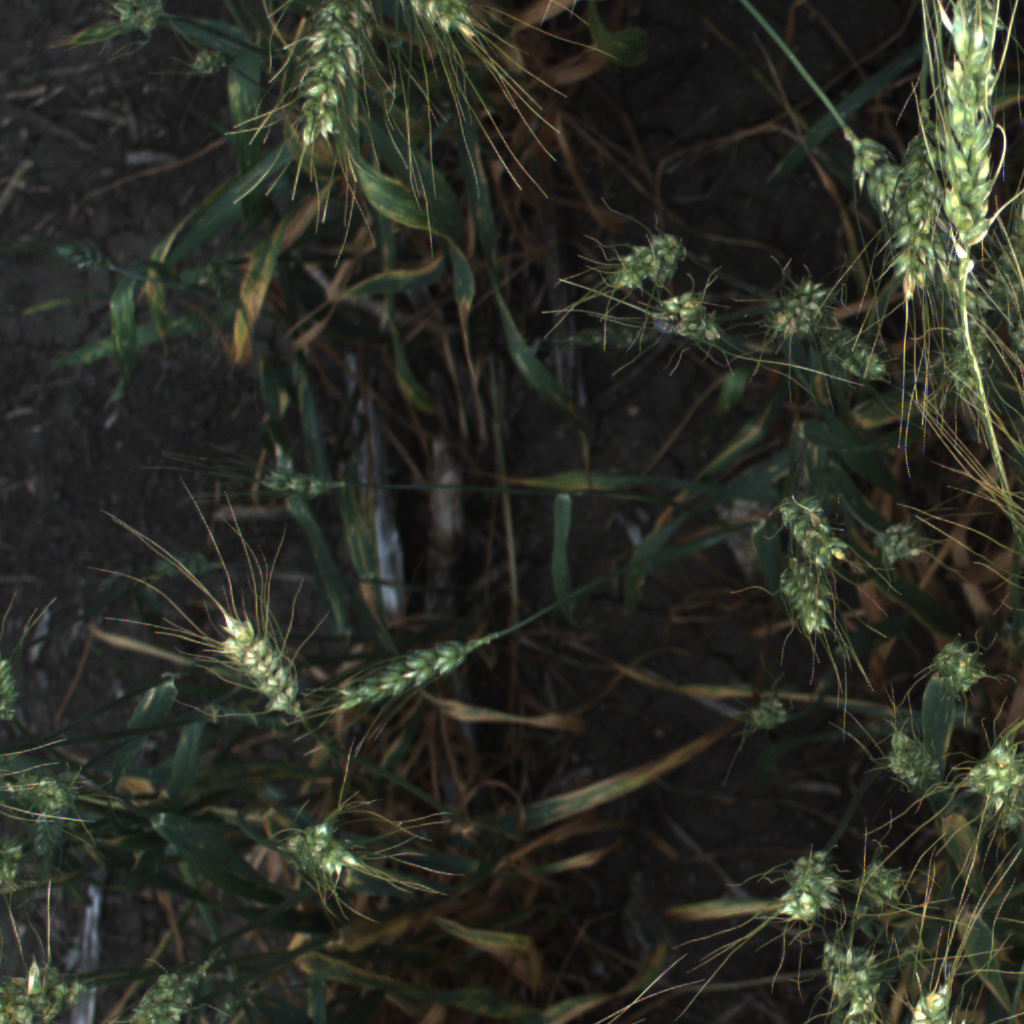wheat_head: (853, 141, 992, 313), (932, 0, 1013, 287), (280, 0, 385, 154), (198, 601, 317, 736), (320, 628, 479, 720), (884, 126, 945, 304), (763, 470, 859, 576), (752, 822, 846, 925), (592, 224, 695, 299), (771, 555, 852, 649), (0, 947, 97, 1024), (751, 271, 843, 347), (869, 711, 945, 798), (811, 314, 898, 390), (813, 930, 883, 1024), (629, 285, 726, 352), (915, 625, 998, 702), (120, 957, 214, 1024), (247, 452, 346, 514), (852, 846, 924, 917), (963, 745, 1021, 821), (286, 821, 362, 879), (399, 0, 488, 47), (871, 513, 939, 572), (896, 978, 972, 1024), (174, 35, 243, 83), (739, 686, 800, 737), (39, 775, 77, 855), (99, 0, 173, 35), (16, 776, 64, 809)
